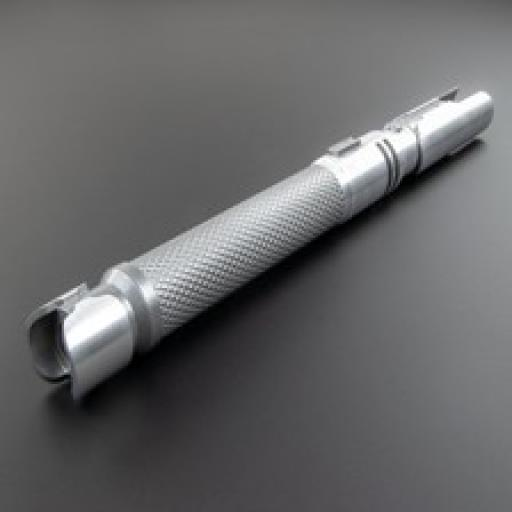lightsaber: (30, 79, 500, 397)
